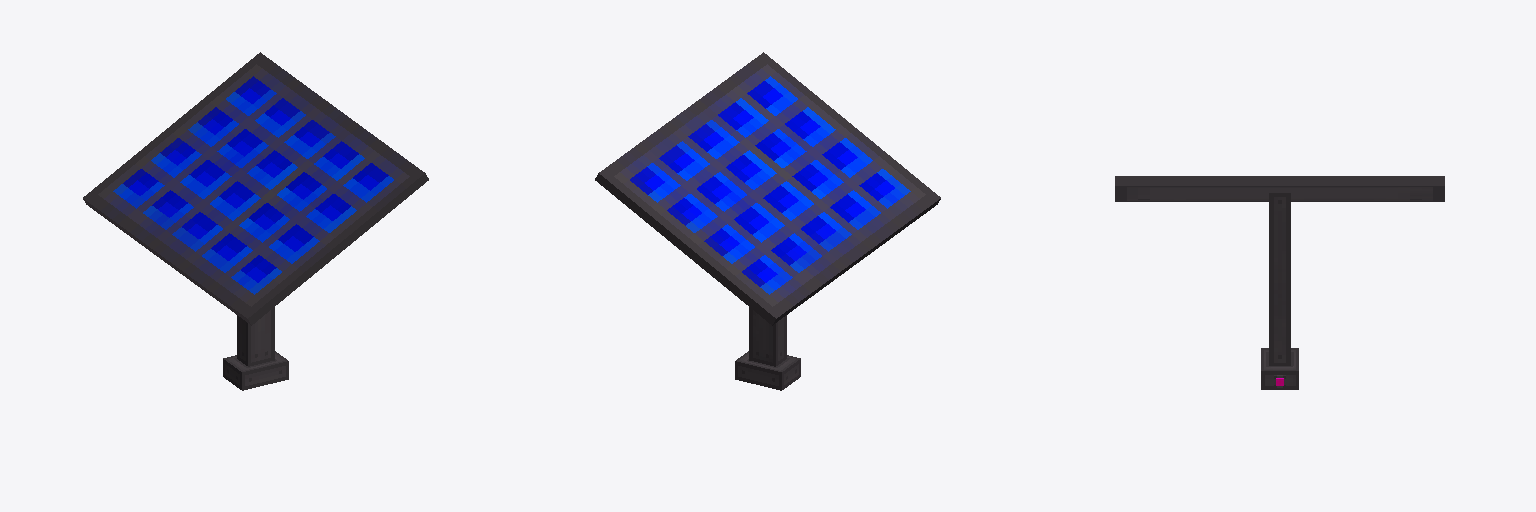
The picture shows the model from 3 angles: view 1: azimuth 30°, elevation 25°; view 2: azimuth 150°, elevation 25°; view 3: azimuth 270°, elevation 25°; orthographic projection.
Parts seen in each view (by area): view 1: Cube_Cube.006; view 2: Cube_Cube.006; view 3: Cube_Cube.006.
Boxes of the visible parts, x1,y1,x2,y2 form: Cube_Cube.006: [83, 52, 428, 390]; Cube_Cube.006: [595, 52, 940, 390]; Cube_Cube.006: [1115, 176, 1444, 389].
Size of the model in its own units: 7.73 by 9.94 by 12.17.
Materials: 1 (1 with a texture image).